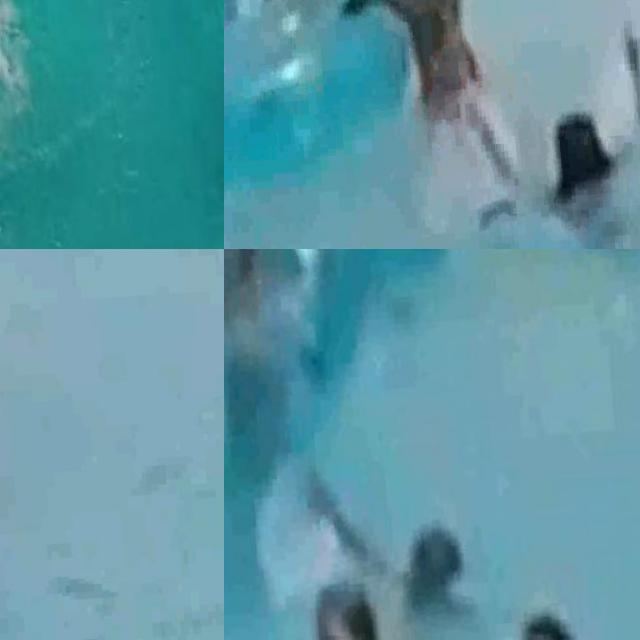drowning: (455, 11, 640, 249), (308, 432, 498, 600)
swimming: (224, 249, 300, 386), (307, 600, 390, 640)
